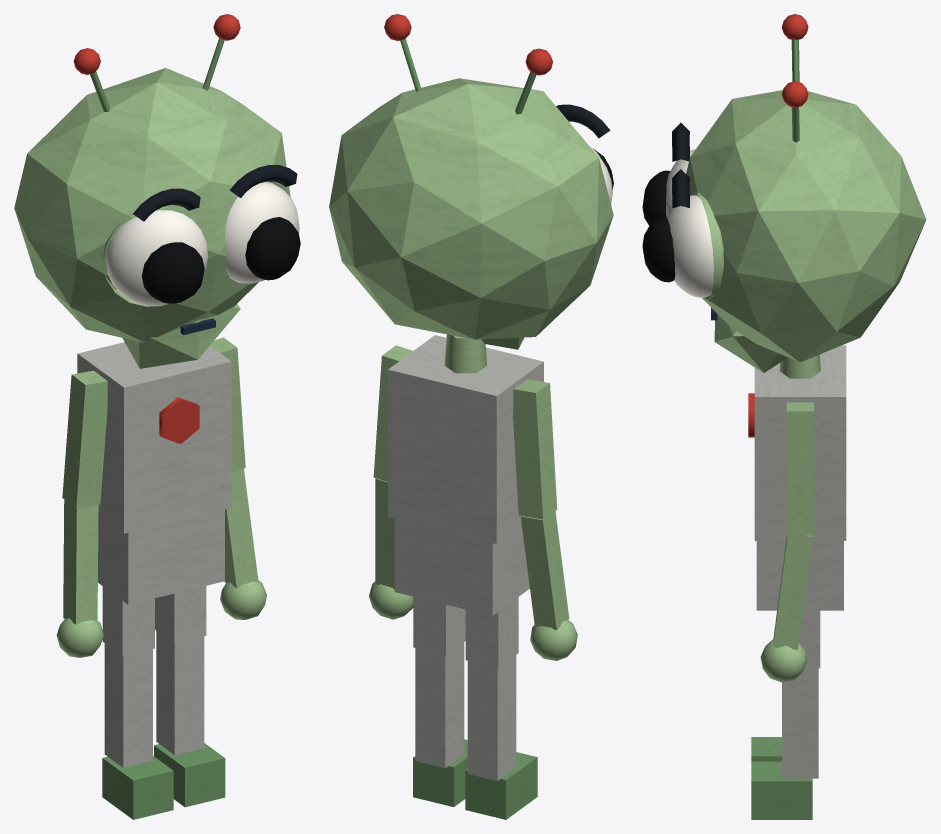
The model's file is alien.glb.
3 renders of one model, left to right at view 1: azimuth 30°, elevation 25°; view 2: azimuth 150°, elevation 25°; view 3: azimuth 270°, elevation 25°, orthographic. The views are drawn at different scales.
Parts seen in each view (by area): view 1: head, torso, hips, kneeL, kneeR, shoulderR, elbowR, footR, footL, elbowL, hipR, hipL (+3 smaller); view 2: head, torso, hips, kneeR, kneeL, shoulderR, elbowR, footR, hipR, hipL, footL, elbowL (+4 smaller); view 3: head, torso, hips, kneeL, shoulderL, footL, elbowL, handL, hipL, footR, neck.
Part boxes in pixels (box(x1,y1,x2,y2)): head: box(14, 14, 300, 368); torso: box(77, 342, 231, 533); hips: box(98, 509, 224, 604); kneeL: box(156, 631, 204, 755); kneeR: box(104, 643, 152, 767); shoulderR: box(62, 370, 107, 508); elbowR: box(63, 500, 98, 624); footR: box(102, 756, 173, 819); footL: box(154, 743, 225, 807); elbowL: box(224, 468, 258, 588); hipR: box(102, 586, 154, 656); hipL: box(155, 586, 206, 643); head: box(329, 14, 613, 349); torso: box(388, 335, 543, 543); hips: box(394, 519, 529, 615); kneeR: box(467, 655, 516, 780); kneeL: box(415, 642, 464, 768); shoulderR: box(513, 379, 557, 519); elbowR: box(520, 511, 569, 630); footR: box(465, 752, 537, 819); hipR: box(465, 597, 518, 667); hipL: box(413, 596, 465, 655); footL: box(413, 739, 467, 806); elbowL: box(375, 478, 394, 589); head: box(642, 14, 926, 372); torso: box(748, 345, 846, 540); hips: box(756, 541, 843, 610); kneeL: box(782, 668, 818, 778); shoulderL: box(786, 402, 813, 535); footL: box(751, 761, 812, 819); elbowL: box(773, 535, 812, 649); handL: box(760, 639, 806, 682); hipL: box(799, 610, 820, 668); footR: box(751, 737, 781, 761); neck: box(779, 354, 820, 378).
Bounding box in the file's own units: 0.4759 × 1.35 × 0.4645.
15 materials, 12 textured.
